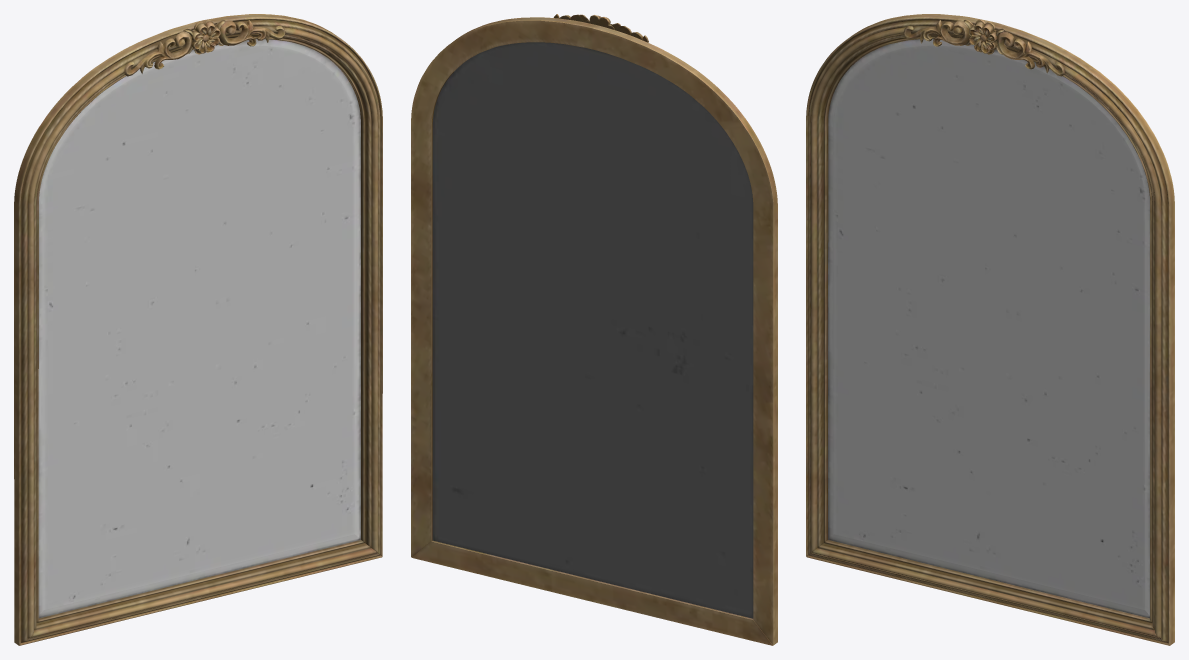
Rendered from ornate_mirror_01.403e16de.glb.
3 views of the same model, side by side, from view 1: azimuth 30°, elevation 25°; view 2: azimuth 150°, elevation 25°; view 3: azimuth 330°, elevation 25° (orthographic).
Visible parts, largest first — view 1: ornate_mirror_01; view 2: ornate_mirror_01; view 3: ornate_mirror_01.
Part boxes in pixels (x1,y1,x2,y2): ornate_mirror_01: (14, 14, 382, 645); ornate_mirror_01: (411, 14, 777, 645); ornate_mirror_01: (806, 14, 1174, 645).
Size of the model in its own units: 0.6538 by 1 by 0.0349.
Materials: 1 (1 with a texture image).
